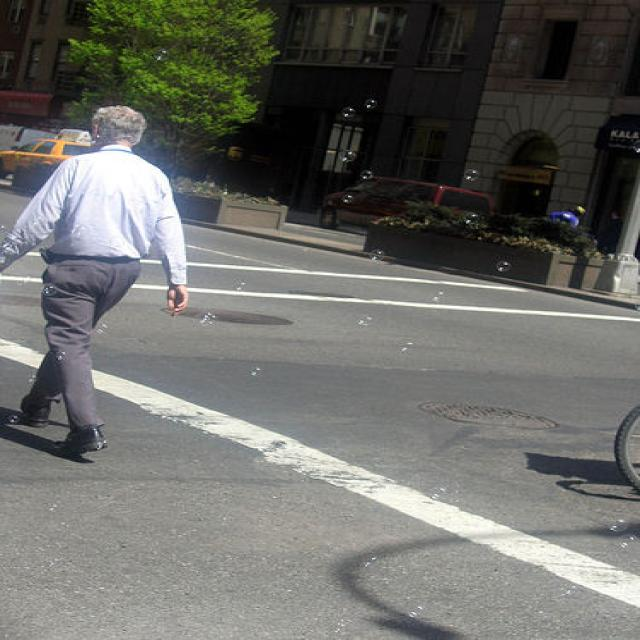light_vehicle: (314, 173, 507, 235), (0, 128, 94, 182)
